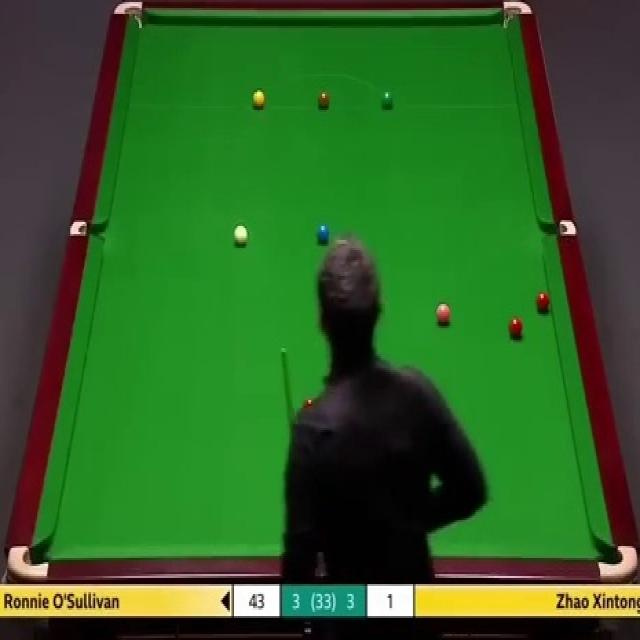pocket: (595, 545, 638, 583), (8, 543, 50, 577), (500, 0, 534, 32), (113, 0, 143, 28), (66, 218, 102, 238), (540, 220, 574, 235)
